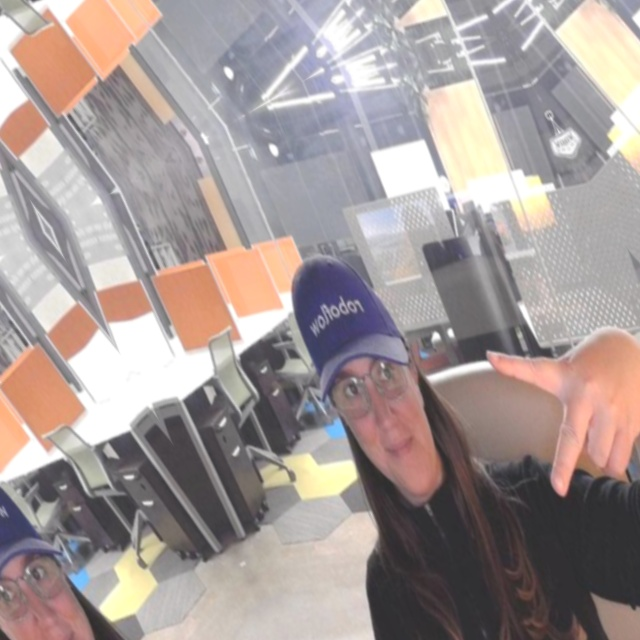Scissors: (452, 263, 640, 546)
